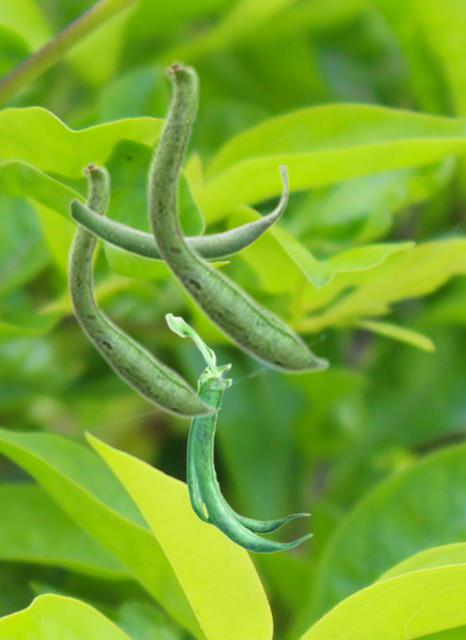french_bean: (145, 57, 330, 375), (66, 159, 217, 419), (164, 312, 312, 553), (68, 165, 289, 263)
